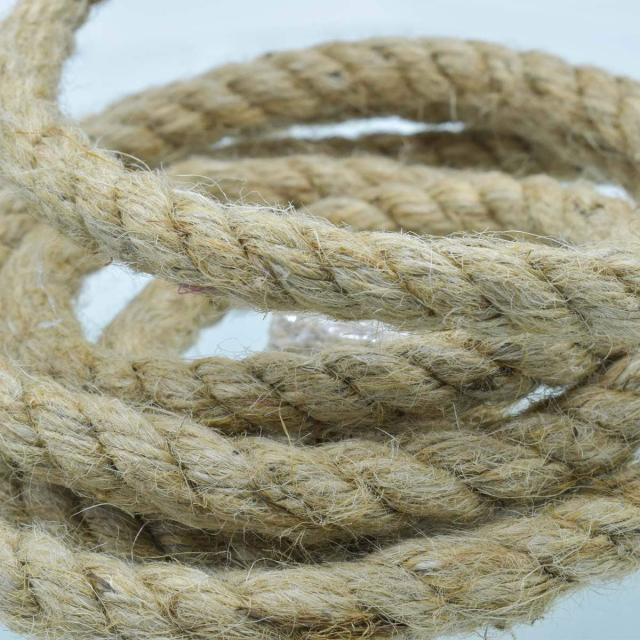Rope: (4, 1, 640, 639)
